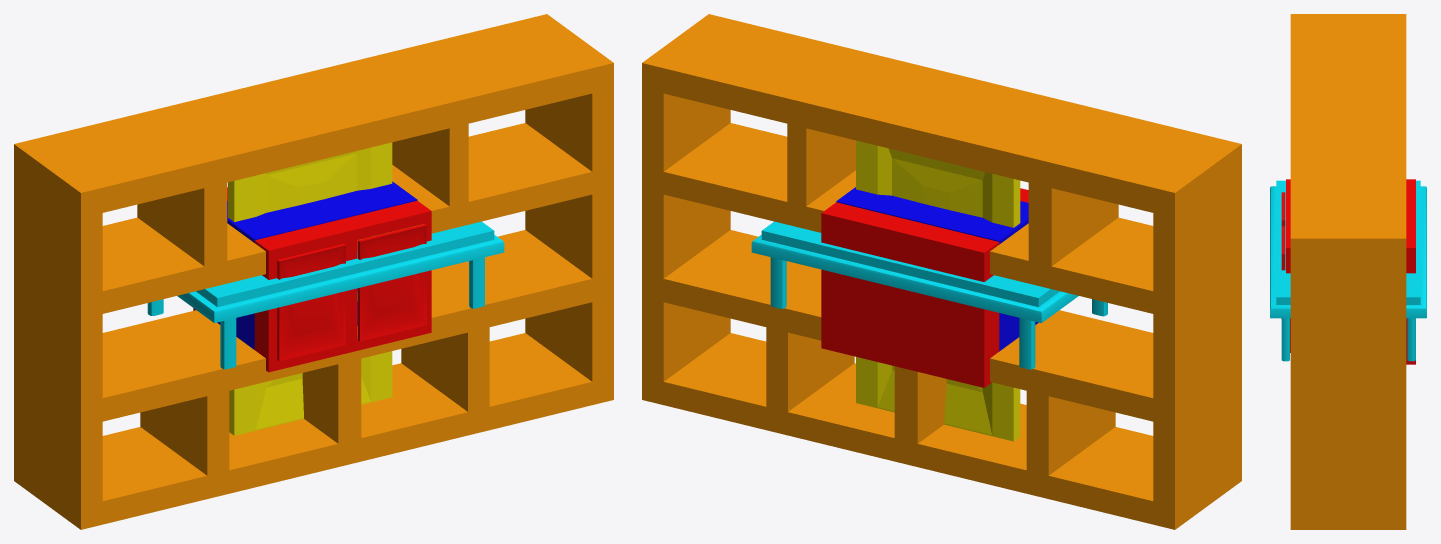
The model's file is meubles_salons.fbx.
The picture shows the model from 3 angles, left to right: view 1: azimuth 30°, elevation 25°; view 2: azimuth 150°, elevation 25°; view 3: azimuth 270°, elevation 25°; orthographic projection. The views are drawn at different scales.
Parts seen in each view (by area): view 1: Bibliotèque, MeubleCouloir, Porte, TableBasse, MeubleTélé; view 2: Bibliotèque, MeubleCouloir, Porte, TableBasse, MeubleTélé; view 3: Bibliotèque, TableBasse, MeubleCouloir.
Part boxes in pixels (x1=…): Bibliotèque: x1=14, y1=14, x2=613, y2=529; MeubleCouloir: x1=193, y1=187, x2=431, y2=372; Porte: x1=228, y1=142, x2=392, y2=435; TableBasse: x1=147, y1=221, x2=504, y2=369; MeubleTélé: x1=217, y1=181, x2=417, y2=349; Bibliotèque: x1=642, y1=14, x2=1241, y2=529; MeubleCouloir: x1=821, y1=188, x2=1028, y2=387; Porte: x1=856, y1=140, x2=1020, y2=441; TableBasse: x1=751, y1=221, x2=1107, y2=369; MeubleTélé: x1=836, y1=187, x2=1038, y2=351; Bibliotèque: x1=1290, y1=14, x2=1406, y2=529; TableBasse: x1=1270, y1=180, x2=1426, y2=361; MeubleCouloir: x1=1281, y1=179, x2=1415, y2=364.
Size of the model in its own units: 130 by 78.62 by 38.4.
